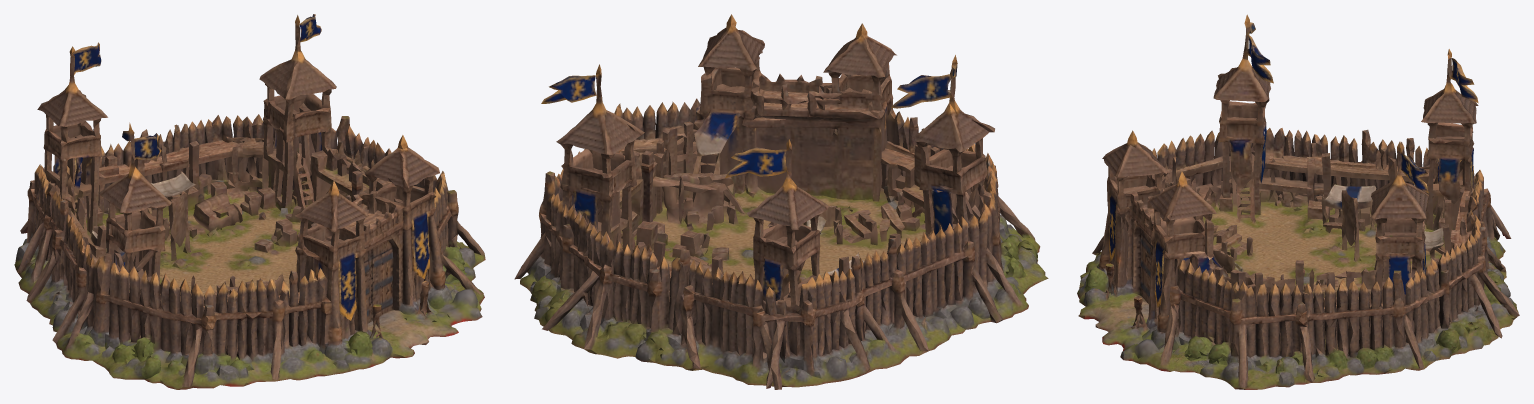
The model's file is fort-palisadea.glb.
3 views of the same model, side by side, from view 1: azimuth 30°, elevation 25°; view 2: azimuth 150°, elevation 25°; view 3: azimuth 270°, elevation 25° (orthographic). The views are drawn at different scales.
Visible parts, largest first — view 1: geometry_0; view 2: geometry_0; view 3: geometry_0.
Boxes of the visible parts, left/top/right/bottom form: geometry_0: left=14, top=14, right=485, bottom=389; geometry_0: left=514, top=14, right=1048, bottom=389; geometry_0: left=1077, top=14, right=1519, bottom=389.
Size of the model in its own units: 1.9 by 0.95 by 1.81.
1 material, 1 textured.
